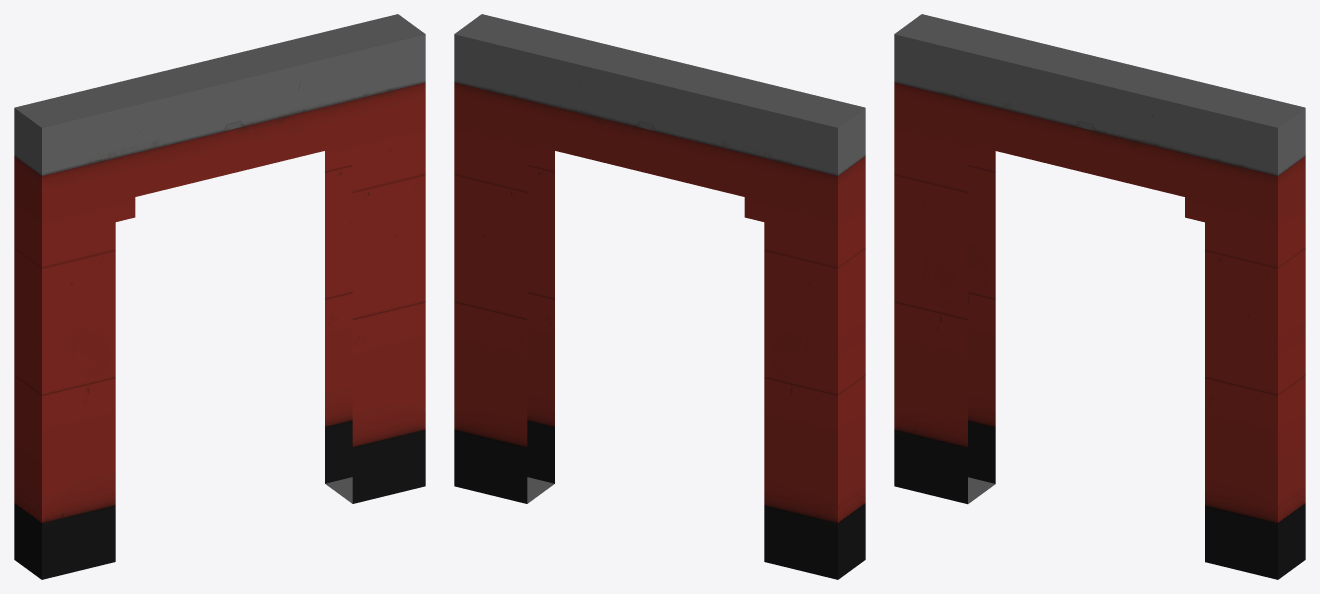
File: HeroProp_DoorWall.dae
3 views of the same model, side by side, from view 1: azimuth 30°, elevation 25°; view 2: azimuth 150°, elevation 25°; view 3: azimuth 330°, elevation 25° (orthographic).
Visible parts, largest first — view 1: polySurface1; view 2: polySurface1; view 3: polySurface1.
Boxes of the visible parts, x1=… form: polySurface1: x1=14, y1=14, x2=425, y2=579; polySurface1: x1=454, y1=14, x2=865, y2=579; polySurface1: x1=894, y1=14, x2=1305, y2=579.
Bounding box in the file's own units: 4 × 4.5 × 0.5.
1 material, 1 textured.
